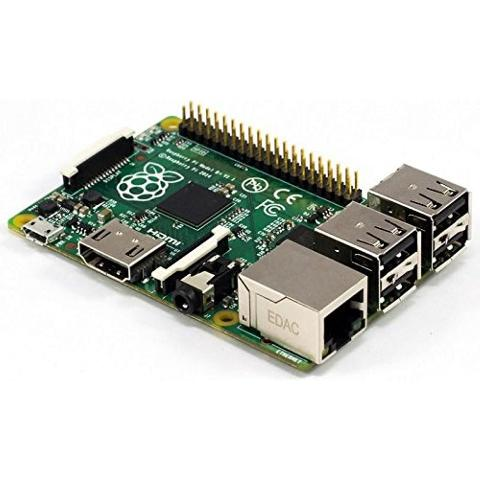Raspberry-Pi-1-Model-B-: (4, 100, 476, 376)
